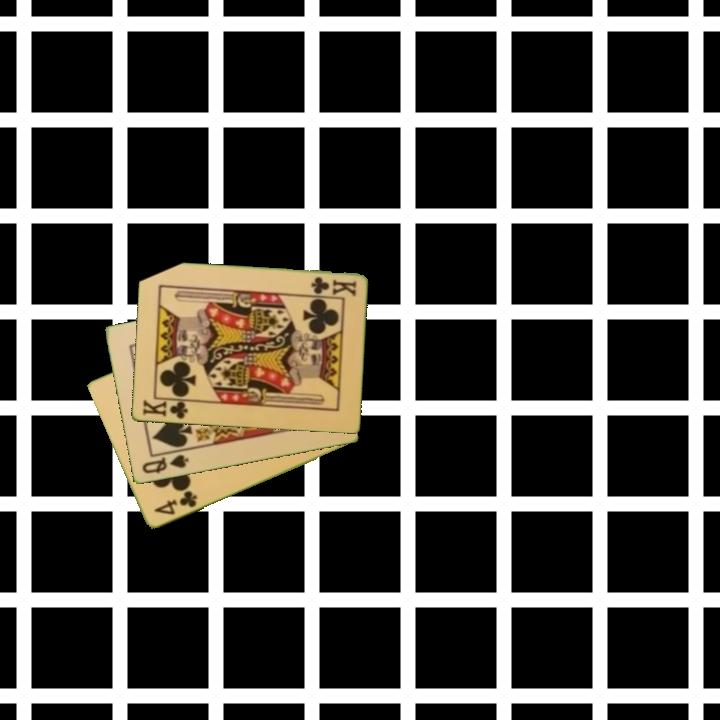4c: (150, 487, 200, 518)
Kc: (139, 396, 194, 422), (308, 273, 359, 298)
Qs: (138, 451, 192, 477)
